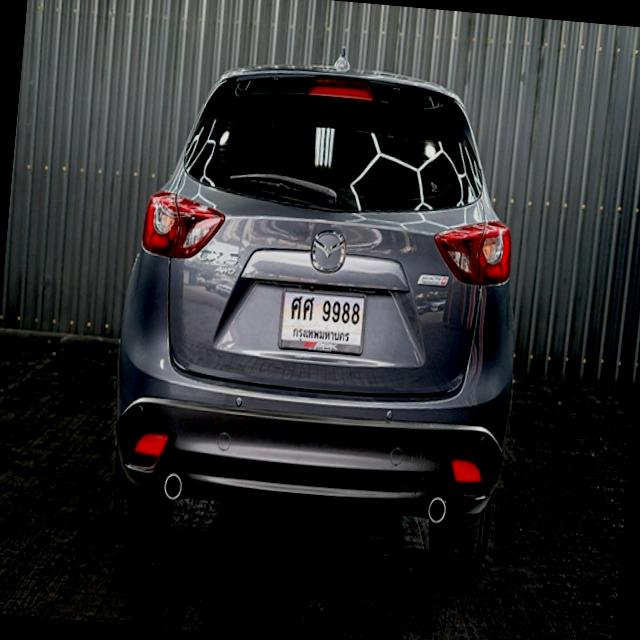license_plate: (279, 288, 366, 355)
